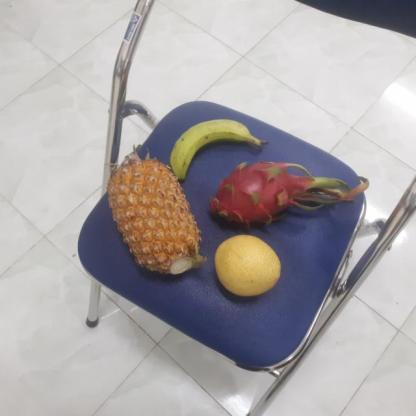banana: (164, 118, 258, 176)
pear: (211, 236, 283, 298)
pineapple: (104, 159, 204, 275)
pitaya: (206, 161, 316, 230)
